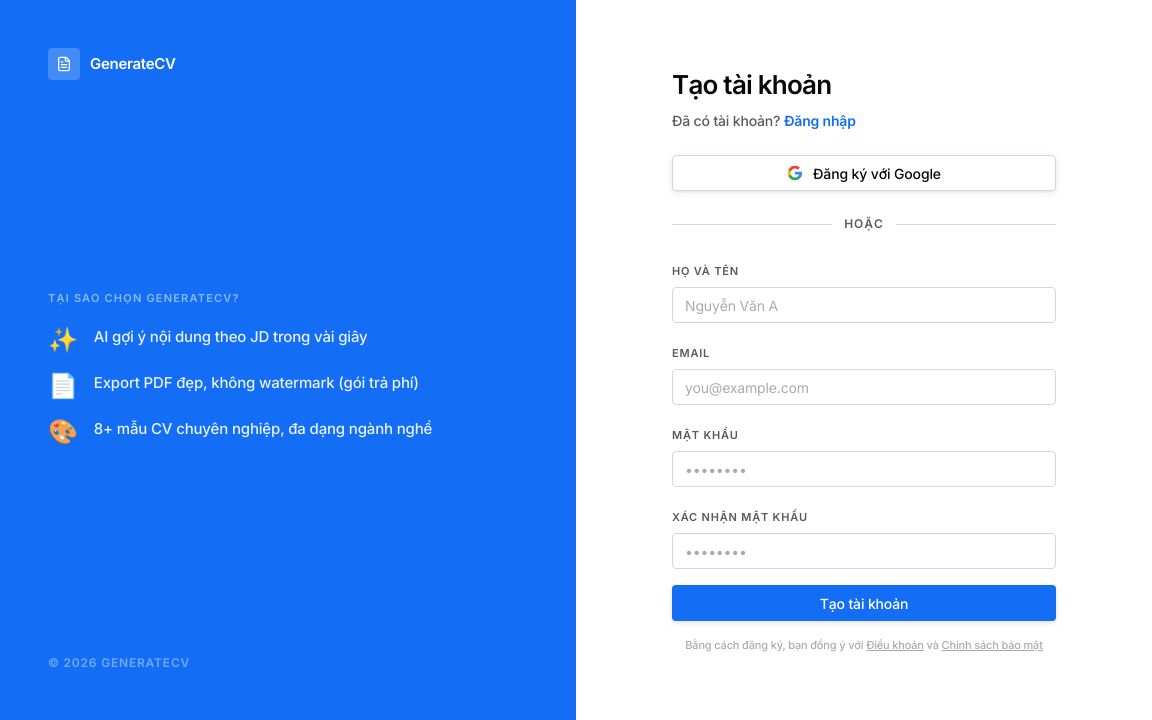
Test: RegisterPage › báo lỗi mật khẩu yếu (không có chữ hoa)
Type "password1" into the password field labelled "Mật khẩu".
click(864, 469); type("password1")  # box [672,451,1056,487]
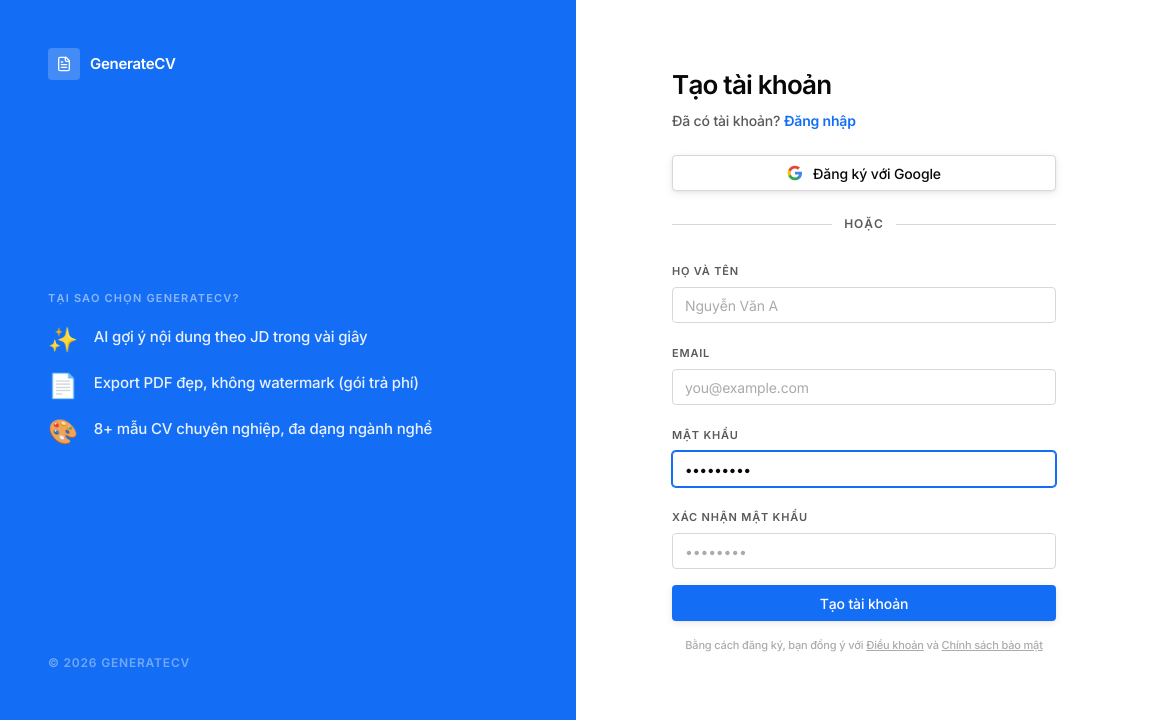
Click the button "Tạo tài khoản".
click(864, 603)  # box [672,585,1056,621]
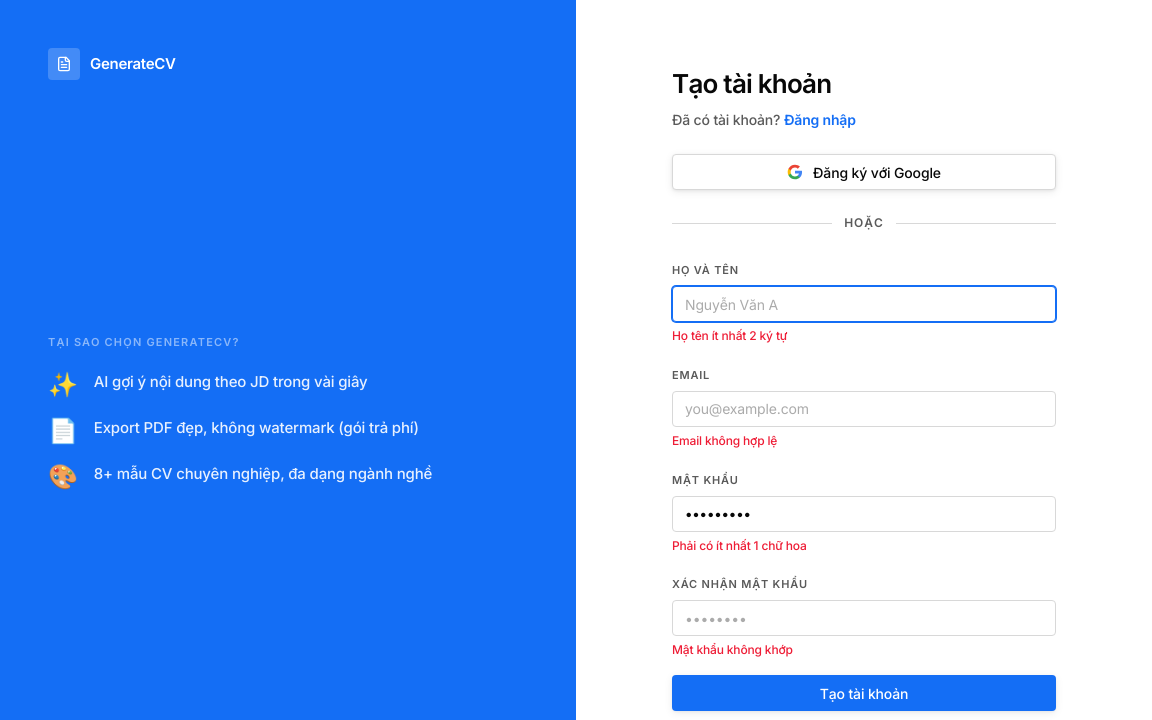
Result: the text "Phải có ít nhất 1 chữ hoa" is shown at [672,538,807,553]
